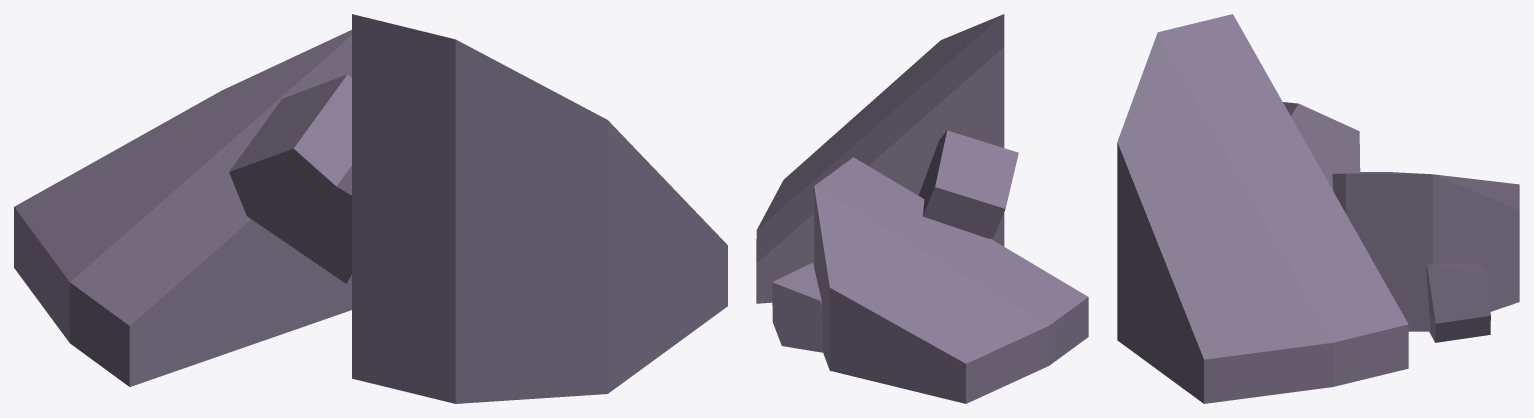
File: Rock_01.glb
3 views of the same model, side by side, from view 1: azimuth 30°, elevation 25°; view 2: azimuth 150°, elevation 25°; view 3: azimuth 270°, elevation 25° (orthographic). The views are drawn at different scales.
Visible parts, largest first — view 1: Rock_Type5_03_mesh; view 2: Rock_Type5_03_mesh; view 3: Rock_Type5_03_mesh.
Boxes of the visible parts, box(x1,y1,x2,y2) form: Rock_Type5_03_mesh: box(14, 14, 727, 403); Rock_Type5_03_mesh: box(756, 14, 1088, 403); Rock_Type5_03_mesh: box(1117, 14, 1519, 403).
Bounding box in the file's own units: 14.23 × 9.48 × 12.88.
